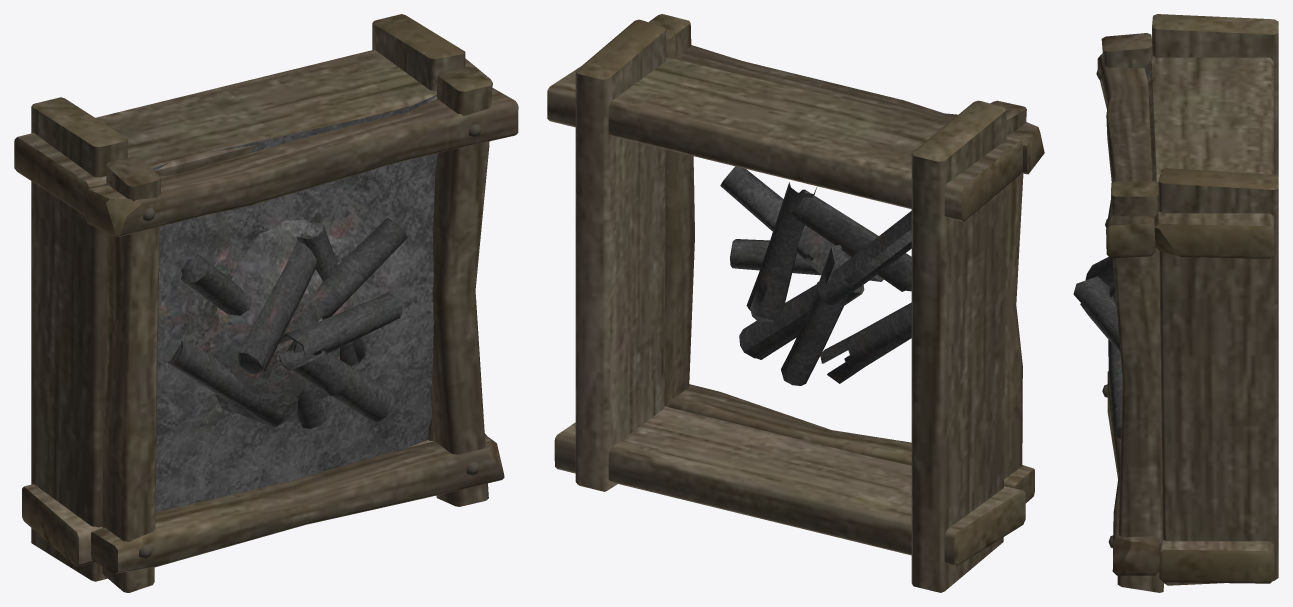
The model's file is VIK_PRO_Hearth_Small_01A_LOD0-transformed.glb.
3 renders of one model, left to right at view 1: azimuth 30°, elevation 25°; view 2: azimuth 150°, elevation 25°; view 3: azimuth 270°, elevation 25°, orthographic. The views are drawn at different scales.
Parts seen in each view (by area): view 1: VIK_PRO_Hearth_Small_01A_LOD0; view 2: VIK_PRO_Hearth_Small_01A_LOD0; view 3: VIK_PRO_Hearth_Small_01A_LOD0.
Part boxes in pixels (<box>): VIK_PRO_Hearth_Small_01A_LOD0: <box>14,14,518,592</box>; VIK_PRO_Hearth_Small_01A_LOD0: <box>547,14,1044,592</box>; VIK_PRO_Hearth_Small_01A_LOD0: <box>1073,14,1278,592</box>.
Size of the model in its own units: 0.0158 by 0.016 by 0.00708.
3 materials, 3 textured.
